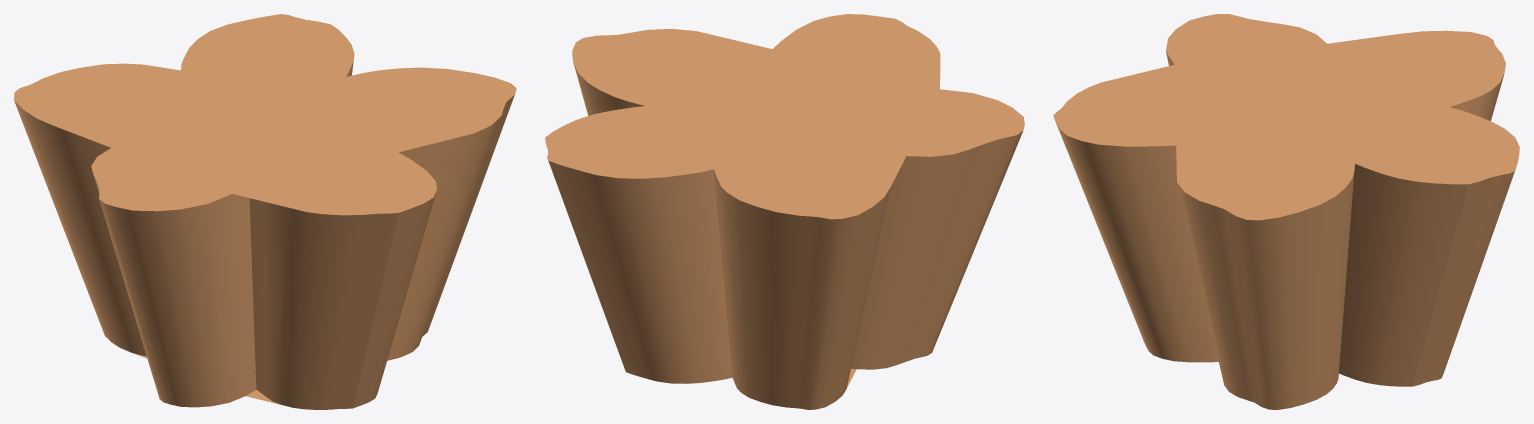
The model's file is FadingLightMiddle.fbx.
The picture shows the model from 3 angles, left to right: view 1: azimuth 30°, elevation 25°; view 2: azimuth 150°, elevation 25°; view 3: azimuth 270°, elevation 25°; orthographic projection.
Visible parts, largest first — view 1: NutFloor.001; view 2: NutFloor.001; view 3: NutFloor.001.
Boxes of the visible parts, box(x1,y1,x2,y2) form: NutFloor.001: box(14, 14, 516, 409); NutFloor.001: box(545, 14, 1024, 409); NutFloor.001: box(1053, 14, 1519, 409).
Bounding box in the file's own units: 235 × 120 × 224.
